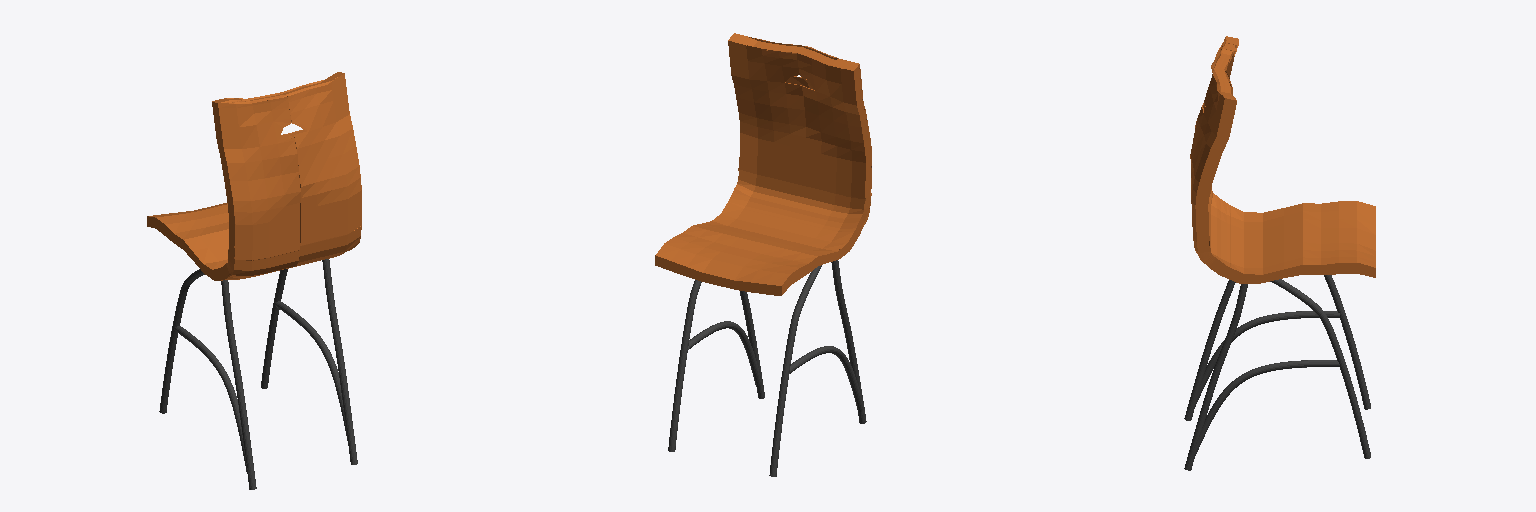
The model's file is chairtall.obj.
3 renders of one model, left to right at view 1: azimuth 30°, elevation 25°; view 2: azimuth 150°, elevation 25°; view 3: azimuth 270°, elevation 25°, orthographic.
Visible parts, largest first — view 1: Cube; view 2: Cube; view 3: Cube.
Part boxes in pixels (x1,y1,x2,y2): Cube: (147, 72, 361, 489); Cube: (655, 33, 871, 476); Cube: (1184, 36, 1375, 470).
Size of the model in its own units: 2.06 by 5.7 by 2.62.